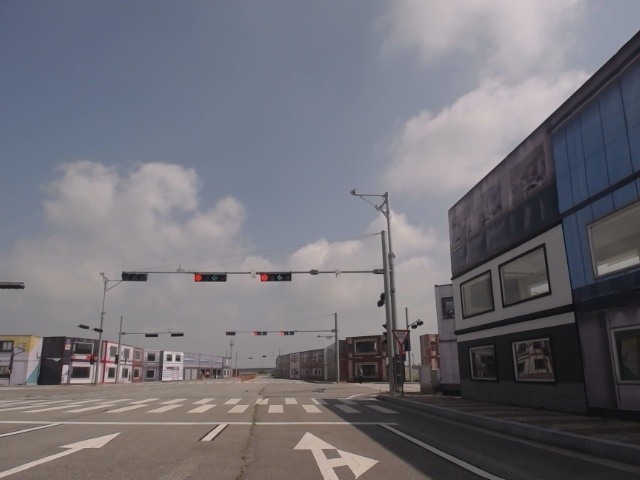left_green_4: (260, 273, 292, 281), (195, 274, 226, 282)
